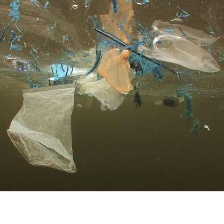plastic_bag: (4, 81, 80, 174), (134, 31, 220, 75), (73, 77, 137, 112), (95, 44, 137, 97), (148, 19, 217, 50)
